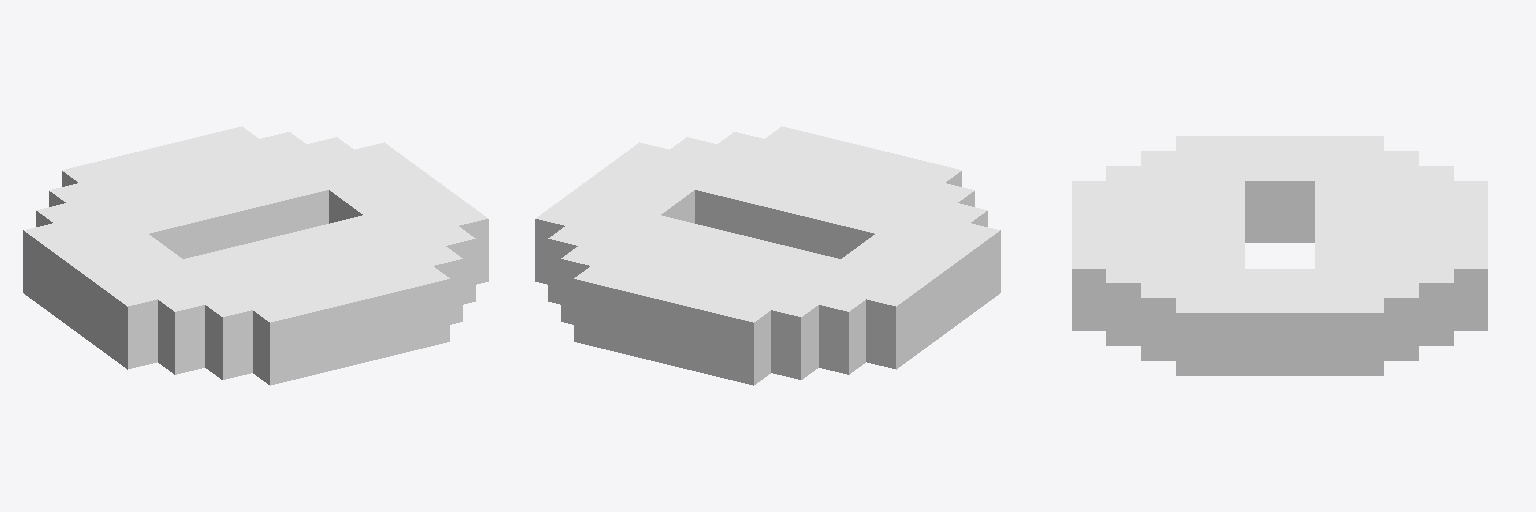
The model's file is CoinTile.obj.
3 renders of one model, left to right at view 1: azimuth 30°, elevation 25°; view 2: azimuth 150°, elevation 25°; view 3: azimuth 270°, elevation 25°, orthographic.
Visible parts, largest first — view 1: object 1; view 2: object 1; view 3: object 1.
Boxes of the visible parts, x1=… form: object 1: x1=23, y1=126, x2=488, y2=385; object 1: x1=535, y1=126, x2=1000, y2=385; object 1: x1=1072, y1=136, x2=1487, y2=375.
Size of the model in its own units: 1.2 by 0.2 by 1.2.